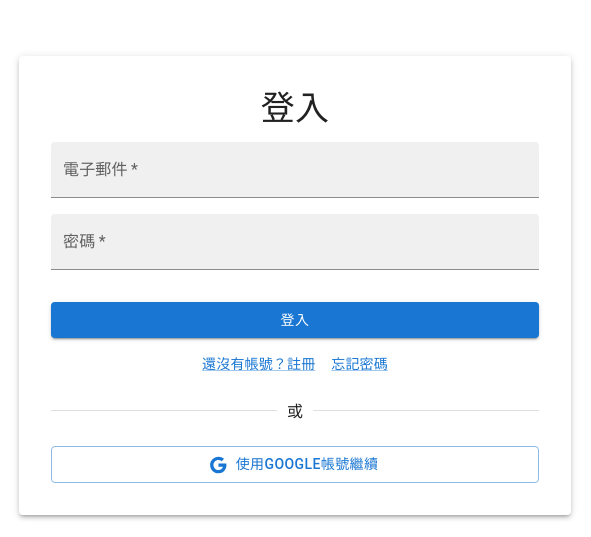
Test case: Login › Password Reset › handles password reset request with empty email
What coordinates should you click on to do the following:
click the button "忘記密碼"
I would click on:
 (360, 364)
Its box is [331,354,388,374].
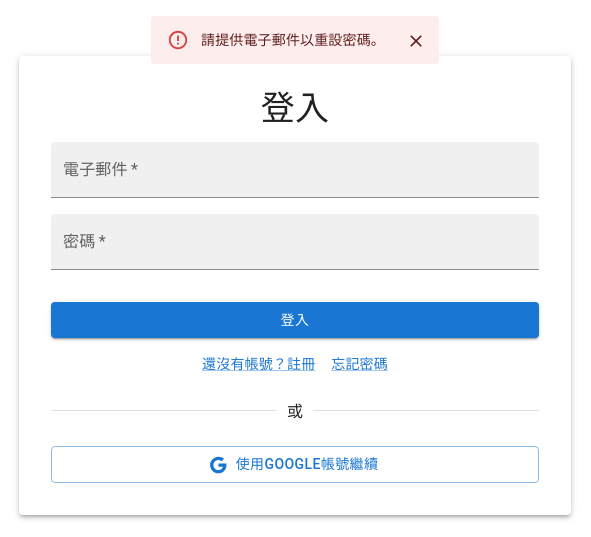
Now the message "請提供電子郵件以重設密碼。" is shown, box [151,16,439,64]
Now the message reads "請提供電子郵件以重設密碼。", box [201,32,385,48]
